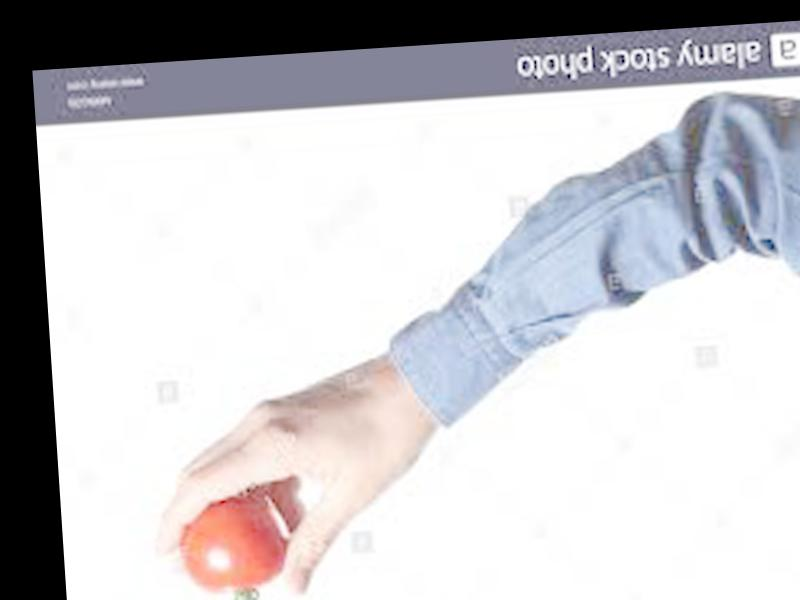Tomato: (176, 498, 285, 592)
